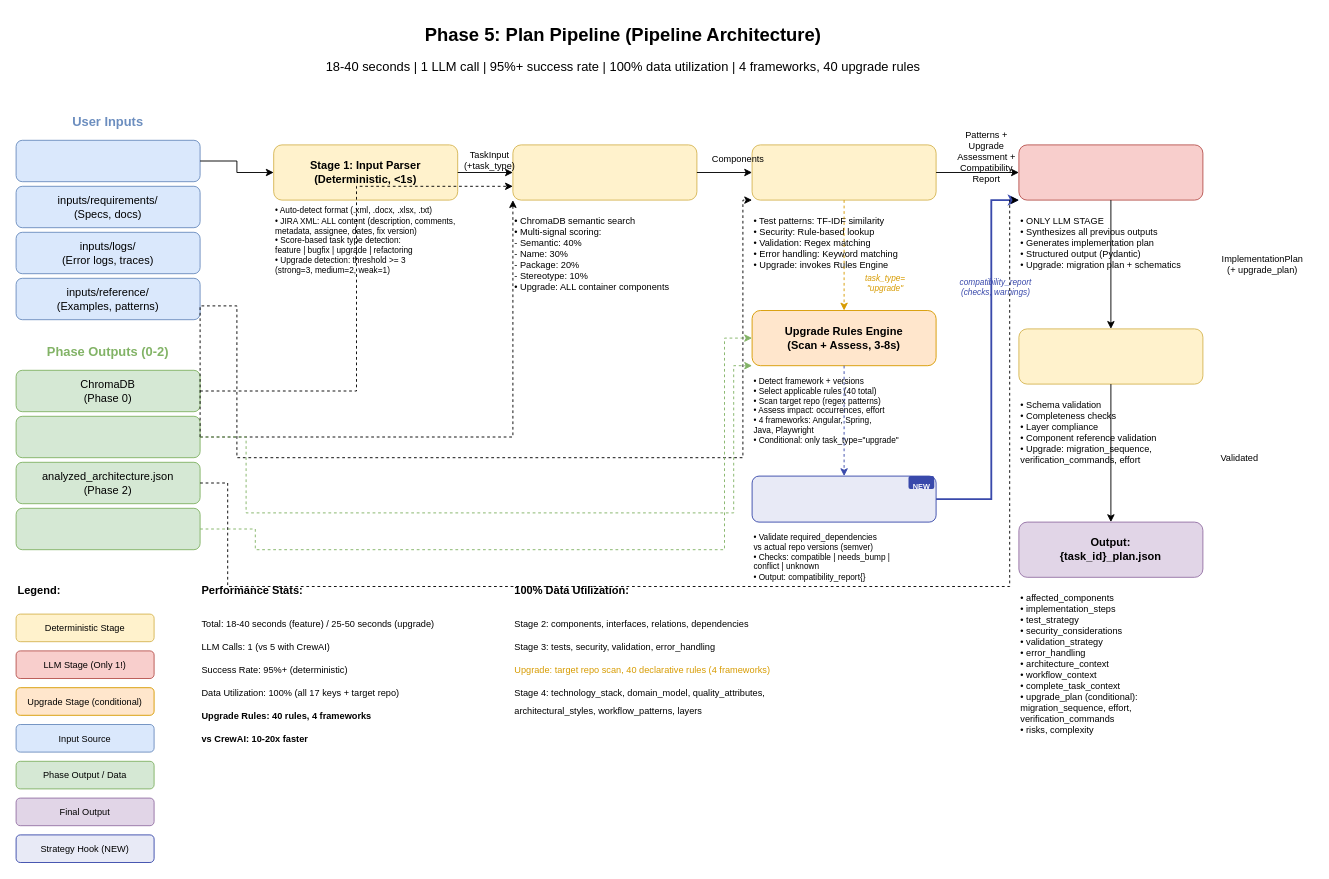
The diagram is 1329 pixels wide and 879 high, and some of its shapes have lost their labels. Each missing label, with the box of its shape:
architecture_facts.json (Phase 1 - 17 keys): (15, 415, 200, 458)
inputs/tasks/ (JIRA XML, DOCX, Excel): (15, 139, 200, 182)
Stage 2: Component Discovery (RAG + Scoring, 2-5s): (512, 144, 697, 200)
Stage 3: Pattern Matcher (TF-IDF + Rules, 1-8s): (751, 144, 936, 200)
Stage 4: Plan Generator (LLM Call, 15-30s): (1018, 144, 1203, 200)
Stage 5: Validator (Pydantic, <1s): (1018, 328, 1203, 384)
STRATEGY: enrich_plan() (Dependency Compat Check): (751, 475, 936, 522)
Target Repository (source code): (15, 507, 200, 550)
